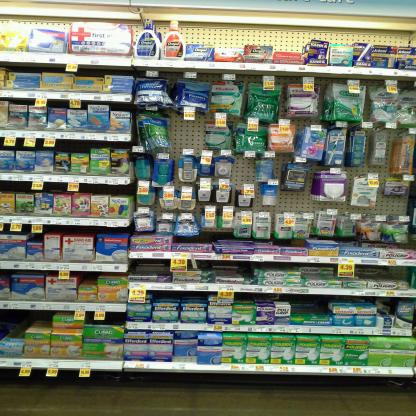Void: (186, 23, 300, 44), (171, 121, 209, 148), (205, 262, 253, 278), (380, 193, 411, 215), (279, 194, 316, 212), (360, 268, 406, 280), (295, 298, 328, 314), (132, 262, 170, 274), (239, 160, 255, 185), (30, 312, 52, 329), (59, 142, 87, 154), (8, 312, 23, 334), (80, 273, 98, 286), (110, 314, 125, 323)
